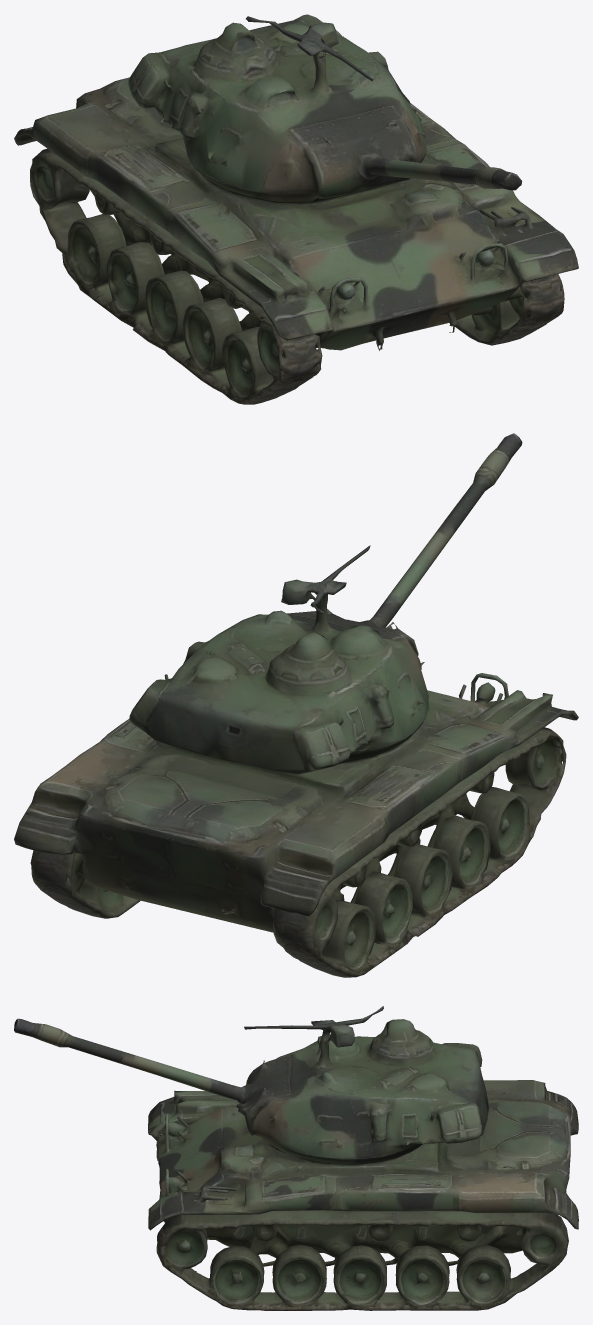
The model's file is xe-tang-m41.glb.
3 views of the same model, one above another, from view 1: azimuth 30°, elevation 25°; view 2: azimuth 150°, elevation 25°; view 3: azimuth 270°, elevation 25° (orthographic). The views are drawn at different scales.
Parts seen in each view (by area): view 1: tripo_node_3c5fb953; view 2: tripo_node_3c5fb953; view 3: tripo_node_3c5fb953.
Part boxes in pixels (x1,y1,x2,y2): tripo_node_3c5fb953: [14, 14, 578, 404]; tripo_node_3c5fb953: [14, 433, 578, 977]; tripo_node_3c5fb953: [14, 1006, 578, 1310].
Size of the model in its own units: 3.19 by 3.03 by 6.45.
Materials: 1 (1 with a texture image).
